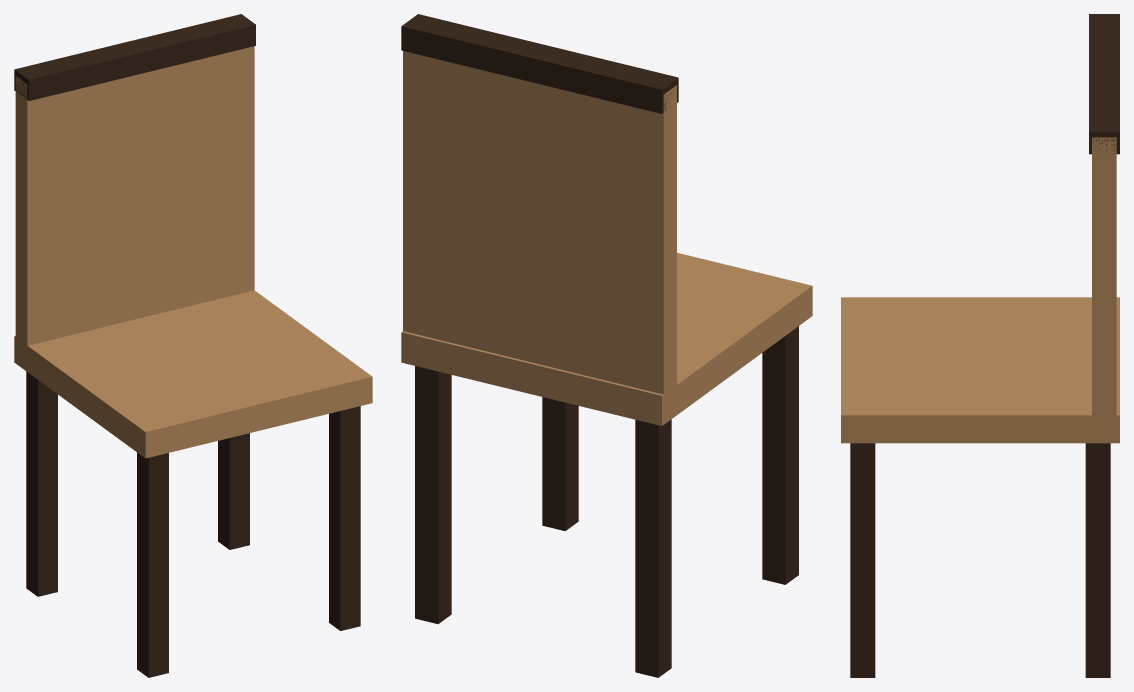
Rendered from stolica.glb.
3 views of the same model, side by side, from view 1: azimuth 30°, elevation 25°; view 2: azimuth 150°, elevation 25°; view 3: azimuth 270°, elevation 25° (orthographic). The views are drawn at different scales.
Bounding box in the file's own units: 0.45 × 0.98 × 0.45.
